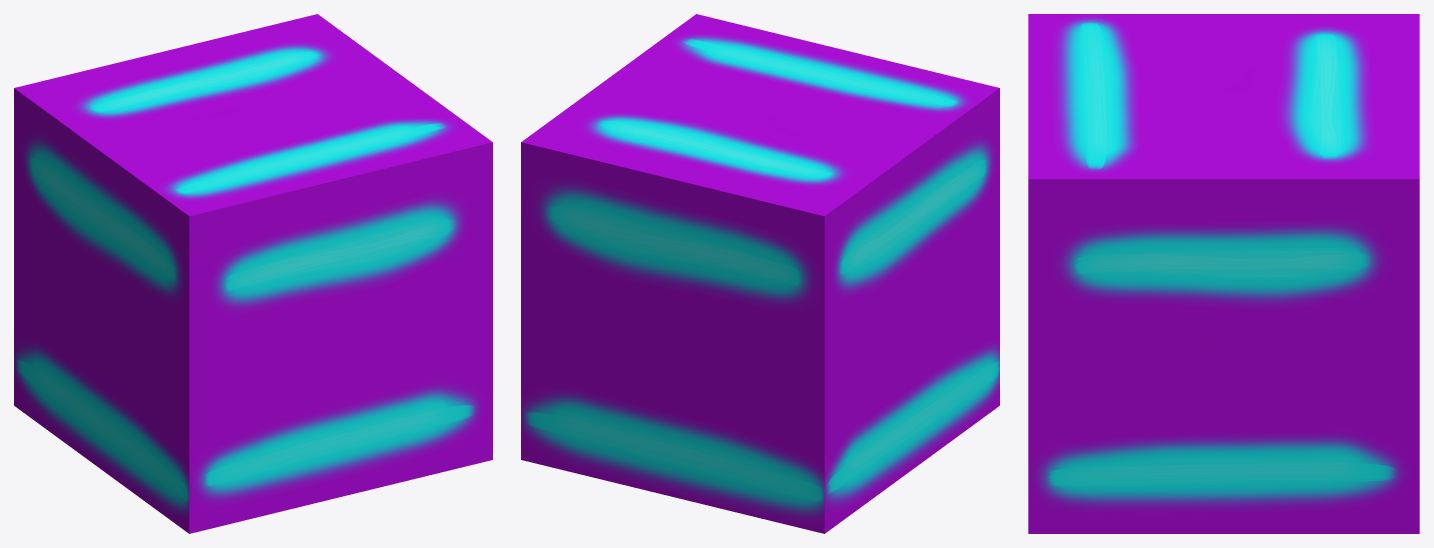
The model's file is doubleJumpPU.glb.
3 renders of one model, left to right at view 1: azimuth 30°, elevation 25°; view 2: azimuth 150°, elevation 25°; view 3: azimuth 270°, elevation 25°, orthographic. The views are drawn at different scales.
Parts seen in each view (by area): view 1: PowerupSymbol; view 2: PowerupSymbol; view 3: PowerupSymbol.
Part boxes in pixels (x1,y1,x2,y2): PowerupSymbol: [14, 14, 492, 533]; PowerupSymbol: [521, 14, 999, 533]; PowerupSymbol: [1028, 14, 1419, 533].
Bounding box in the file's own units: 2 × 2 × 2.
Materials: 2 (1 with a texture image).
